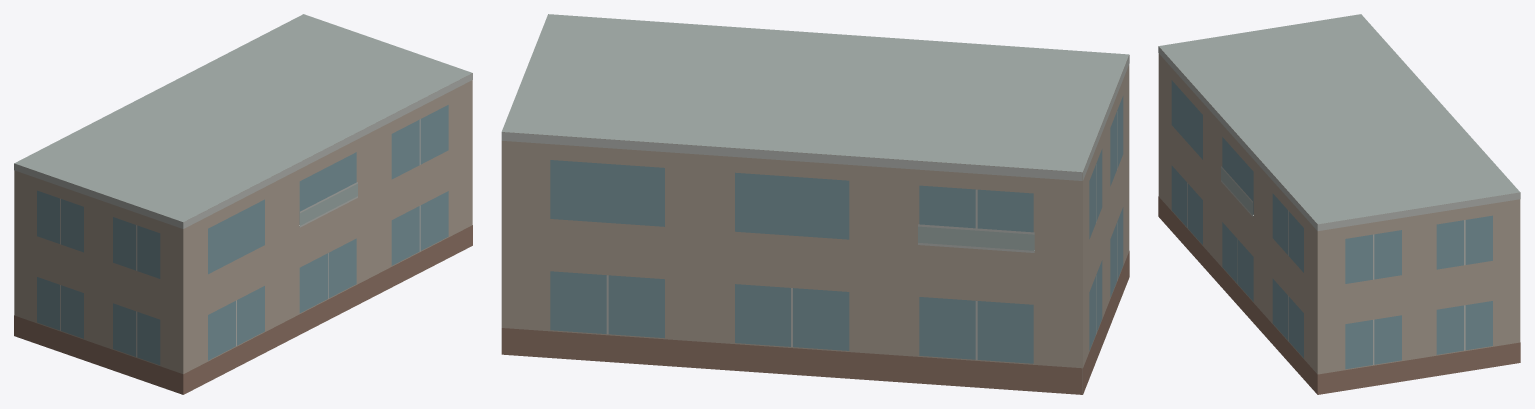
Rendered from survey-upis-32718549.glb.
The picture shows the model from 3 angles, left to right: view 1: azimuth 30°, elevation 25°; view 2: azimuth 150°, elevation 25°; view 3: azimuth 270°, elevation 25°; orthographic projection. The views are drawn at different scales.
Visible parts, largest first — view 1: survey-upis-32718549.tmp; view 2: survey-upis-32718549.tmp; view 3: survey-upis-32718549.tmp.
Part boxes in pixels (x1=…): survey-upis-32718549.tmp: x1=14, y1=14, x2=472, y2=394; survey-upis-32718549.tmp: x1=501, y1=14, x2=1129, y2=394; survey-upis-32718549.tmp: x1=1158, y1=14, x2=1520, y2=394.
Bounding box in the file's own units: 16.16 × 6.1 × 11.75.
